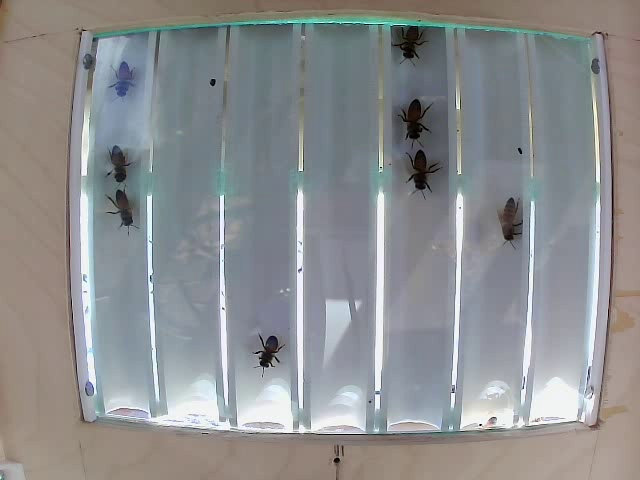bee: (492, 194, 526, 240), (412, 147, 437, 204), (386, 19, 425, 54), (397, 110, 429, 152), (108, 188, 143, 225), (102, 150, 136, 188), (260, 338, 285, 376), (110, 69, 134, 95)
